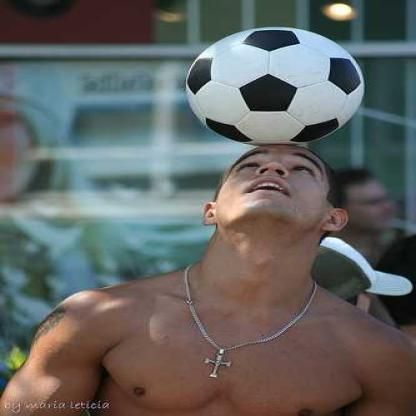ball: (186, 26, 364, 146)
